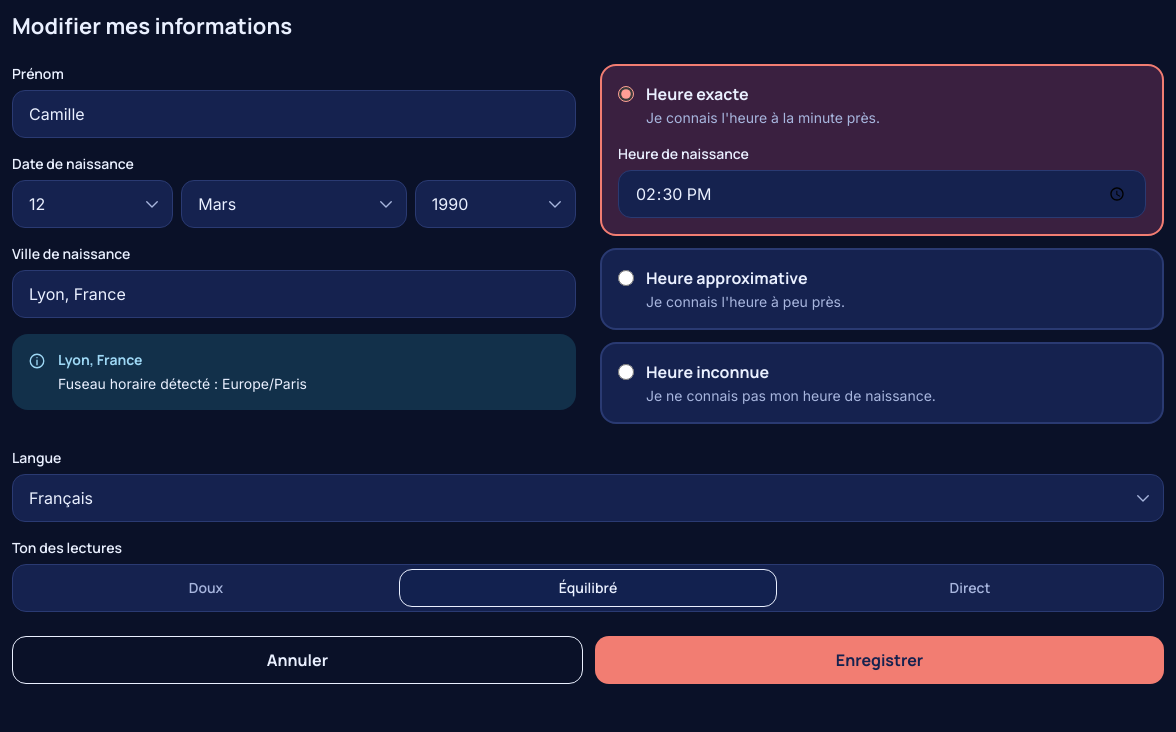
Test: ProfileEditForm › bloque l'enregistrement et affiche les erreurs de validation
The width and height of the screenshot is (1176, 732).
Clear the field labelled "Prénom". click: (294, 114)
box: x1=12 y1=90 x2=576 y2=138
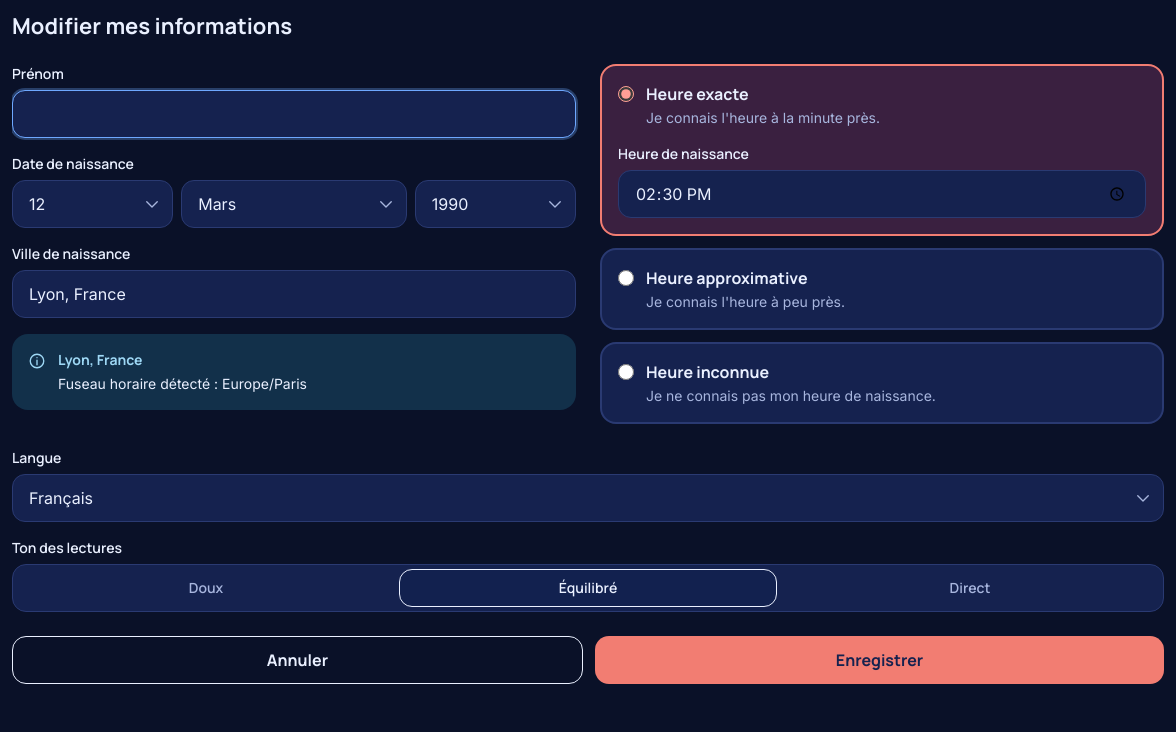
Click the button "Enregistrer". click: (880, 660)
box: x1=595 y1=636 x2=1164 y2=684
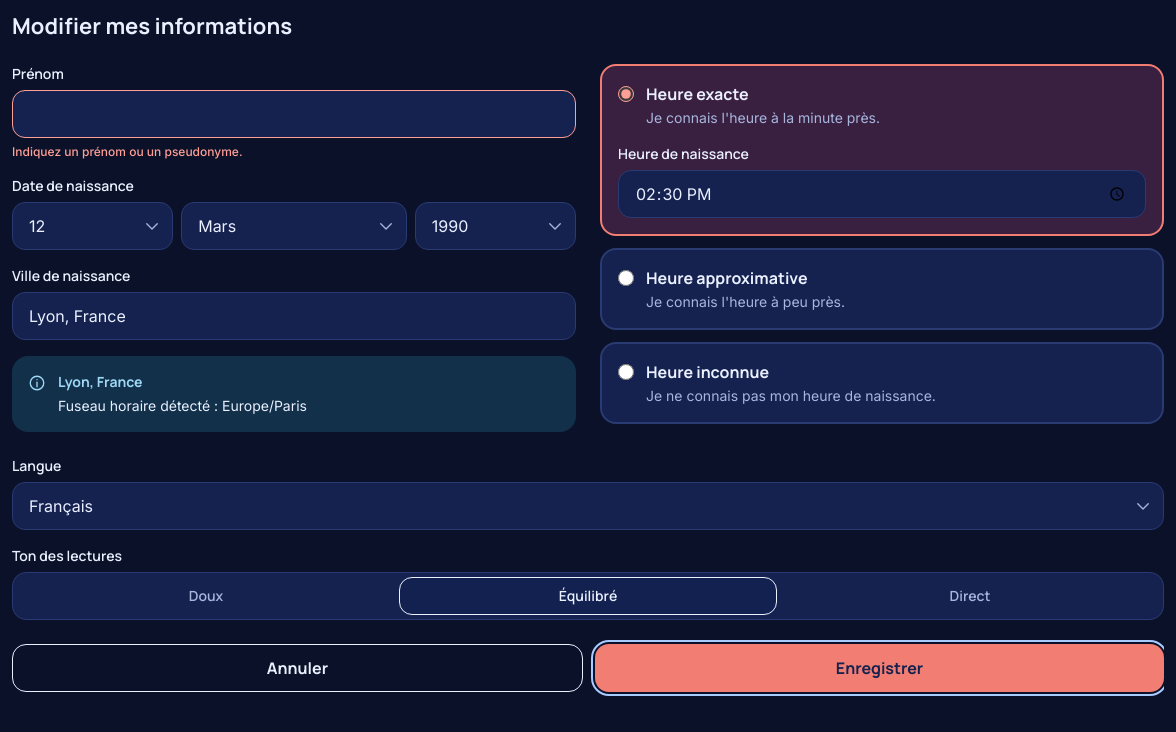
Now the text "Indiquez un prénom ou un pseudonyme." is shown, box x1=12 y1=144 x2=243 y2=159
